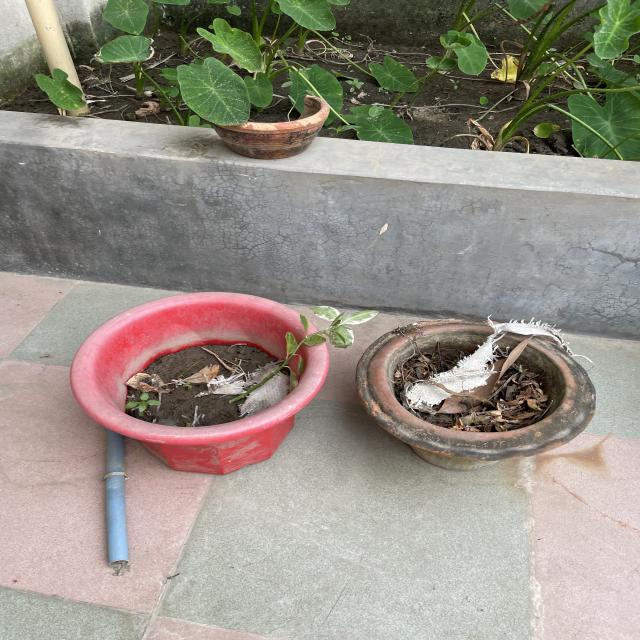Breeding Place: (71, 297, 331, 471), (357, 316, 599, 460), (206, 76, 328, 161)
